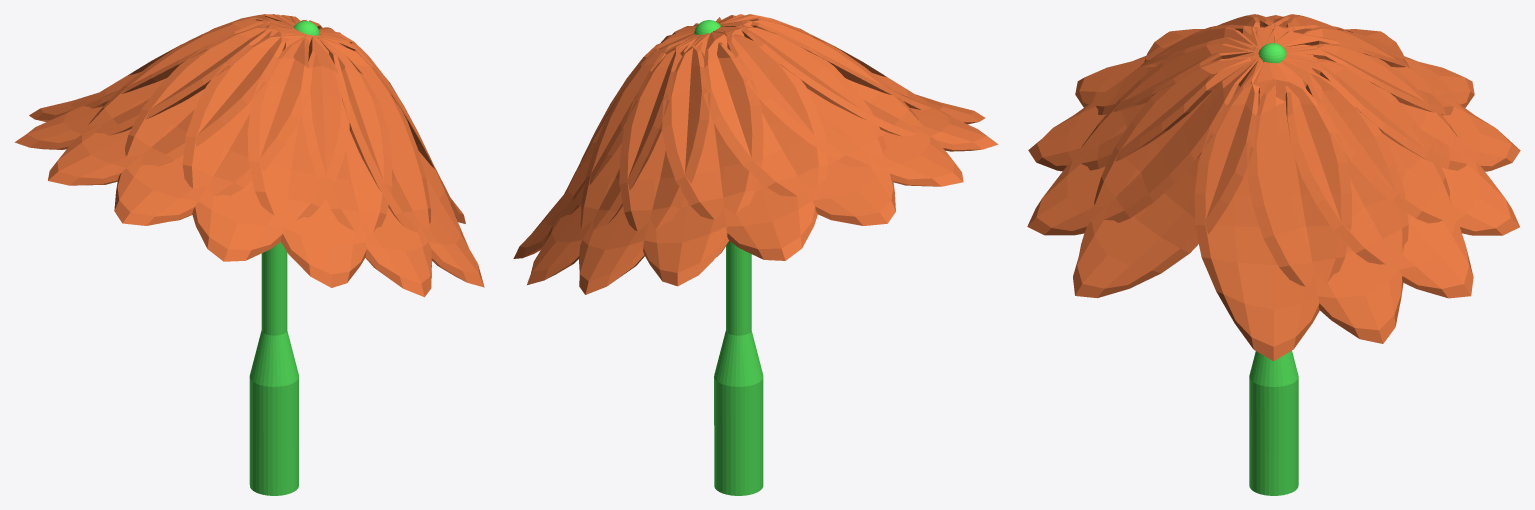
The model's file is Palm.gltf.
3 views of the same model, side by side, from view 1: azimuth 30°, elevation 25°; view 2: azimuth 150°, elevation 25°; view 3: azimuth 270°, elevation 25° (orthographic).
Parts seen in each view (by area): view 1: Plane, Cylinder; view 2: Plane, Cylinder; view 3: Plane, Cylinder.
Boxes of the visible parts, x1,y1,x2,y2 form: Plane: (14, 14, 484, 297); Cylinder: (249, 21, 319, 495); Plane: (513, 14, 998, 294); Cylinder: (694, 20, 763, 495); Plane: (1027, 14, 1520, 361); Cylinder: (1249, 43, 1298, 495).
Size of the model in its own units: 24.58 by 25.87 by 25.23.
